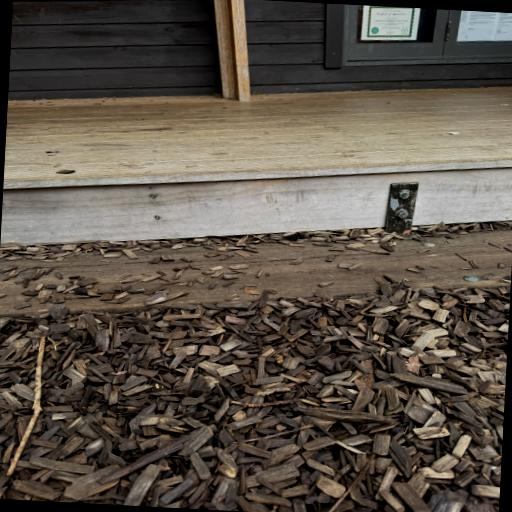step: (0, 158, 512, 317)
